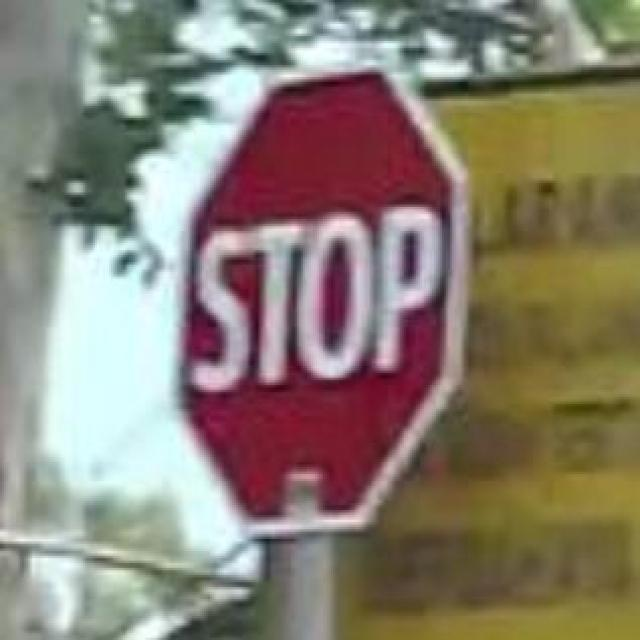traffic sign: (166, 91, 465, 544)
